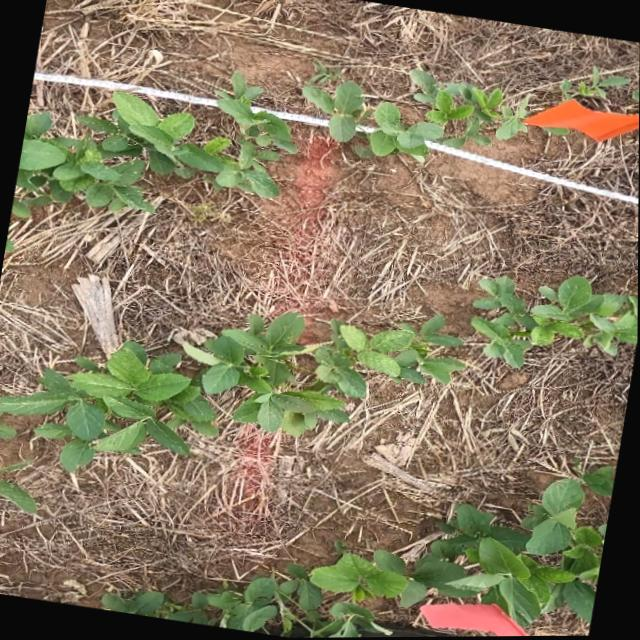soy_plant: (12, 70, 639, 216), (103, 467, 615, 638), (0, 313, 463, 472), (474, 276, 638, 367), (560, 65, 630, 100)
